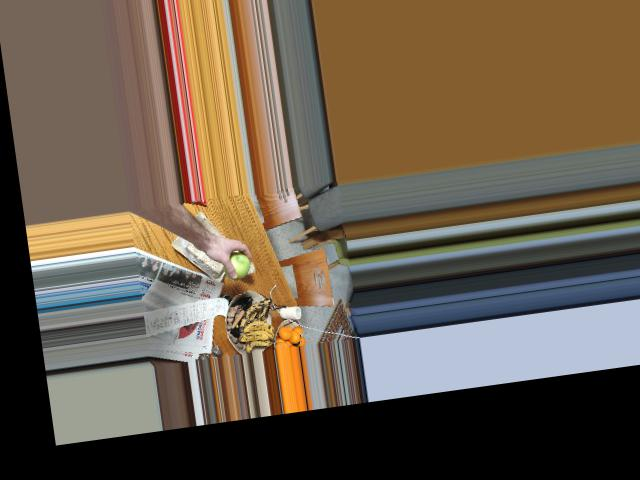apple: (219, 248, 253, 281)
